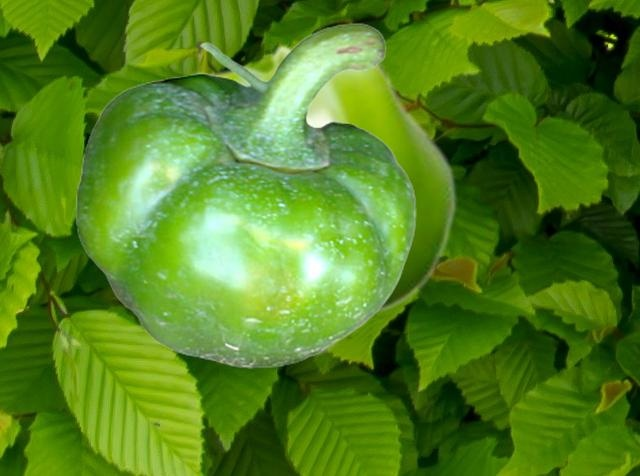bell_pepper: (76, 22, 415, 367), (191, 44, 456, 356)
